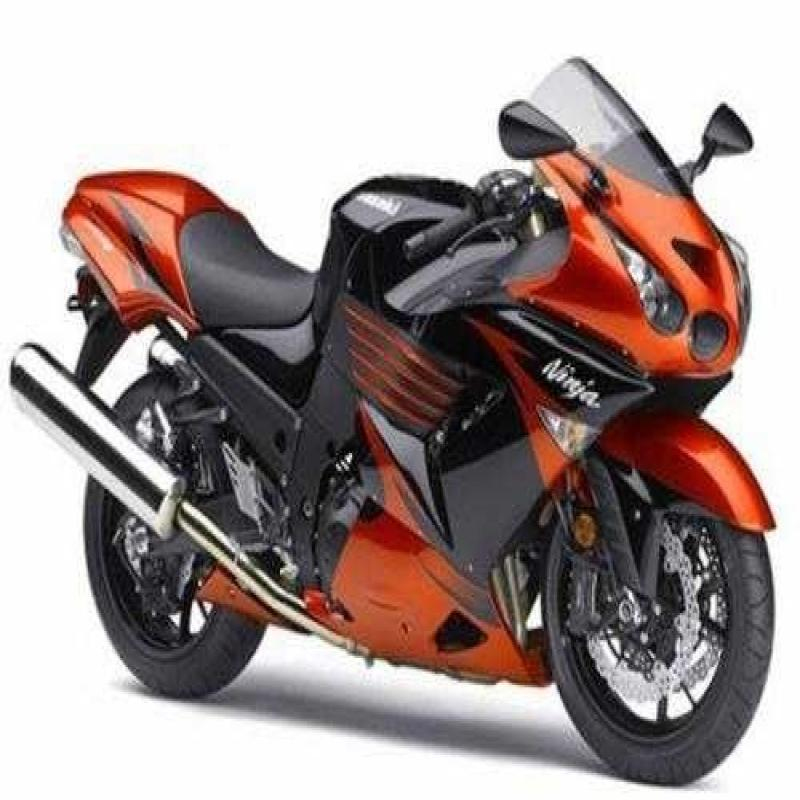bike: (8, 14, 784, 796)
